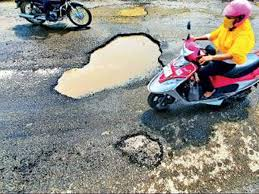pothole: (48, 31, 153, 97), (113, 126, 172, 171), (13, 151, 55, 181), (101, 1, 161, 20)
